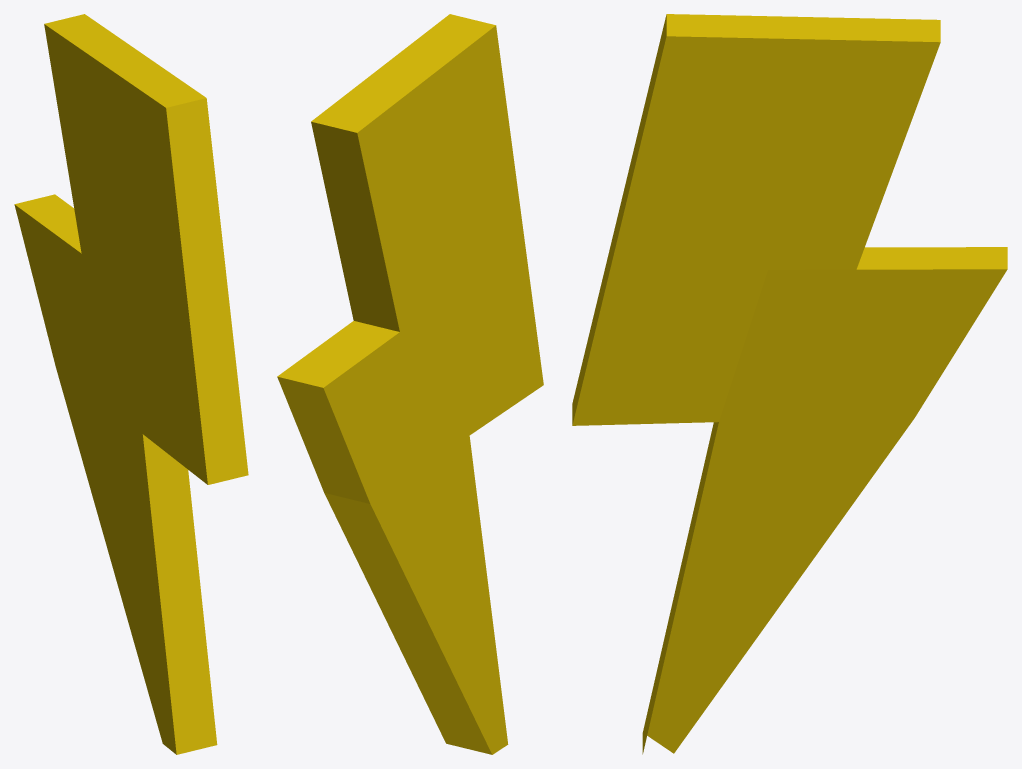
File: RayoVelocidad.fbx
3 renders of one model, left to right at view 1: azimuth 30°, elevation 25°; view 2: azimuth 150°, elevation 25°; view 3: azimuth 270°, elevation 25°, orthographic. The views are drawn at different scales.
Visible parts, largest first — view 1: Cubo; view 2: Cubo; view 3: Cubo.
Boxes of the visible parts, box(x1,y1,x2,y2) form: Cubo: box(14, 14, 248, 754); Cubo: box(277, 14, 543, 754); Cubo: box(572, 14, 1007, 754).
Bounding box in the file's own units: 7.14 × 107 × 58.91.
